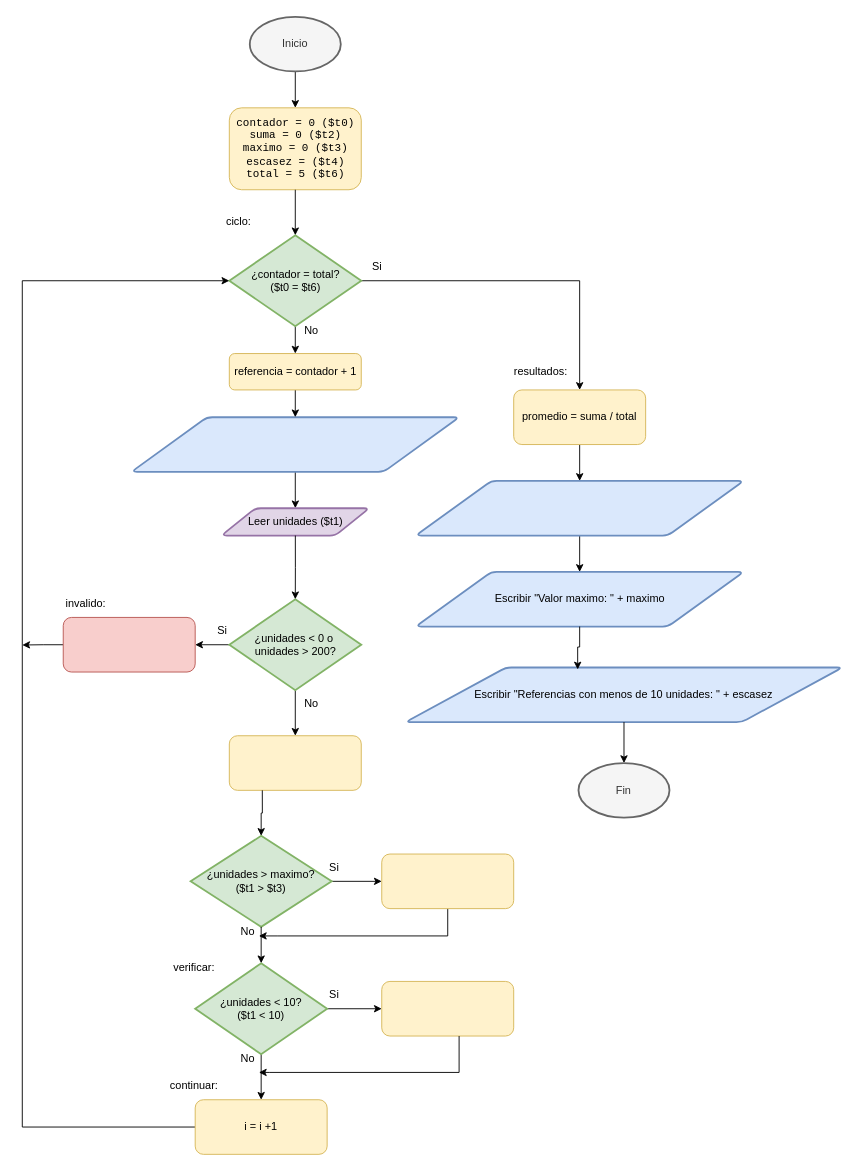
Image size: 859x1170. Some labels were removed from this diagram. The shapes that lost their labels are listed below. From the top down, each one's centre as x and y in pixels, then its label:
[295,444]: Escribir "Referencia ", referencia "(0 a 200): "
[579,508]: Escribir "Promedio entero: ", promedio
[128,644]: Escribir "Error: ingrese un valor entre 0 y 200."
[294,762]: suma = suma + unidades
[447,881]: maximo = unidades
[447,1008]: escasez = escasez + 1
